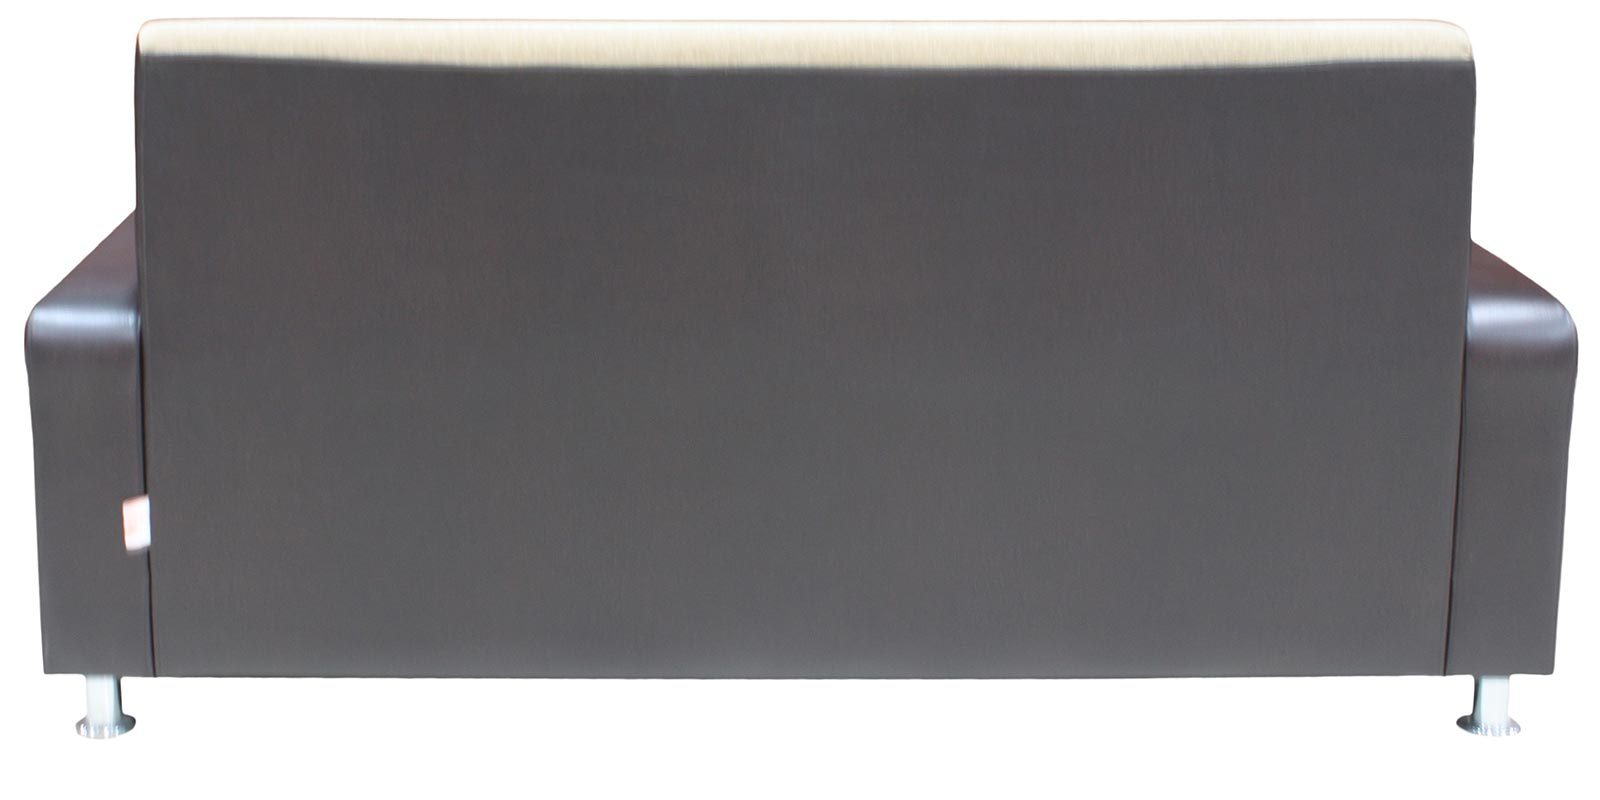New Ciara Three Seater Sofa in Dual Tone by Crystal Furnitech: (21, 14, 1580, 734)
